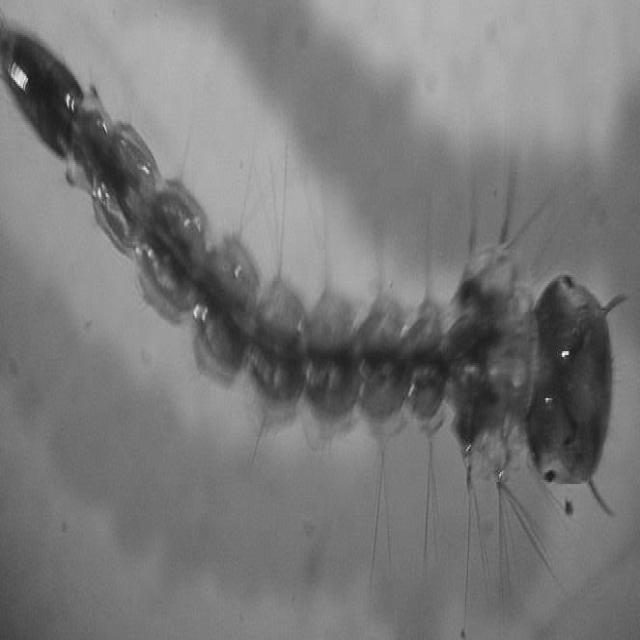larvas: (0, 18, 623, 511)
